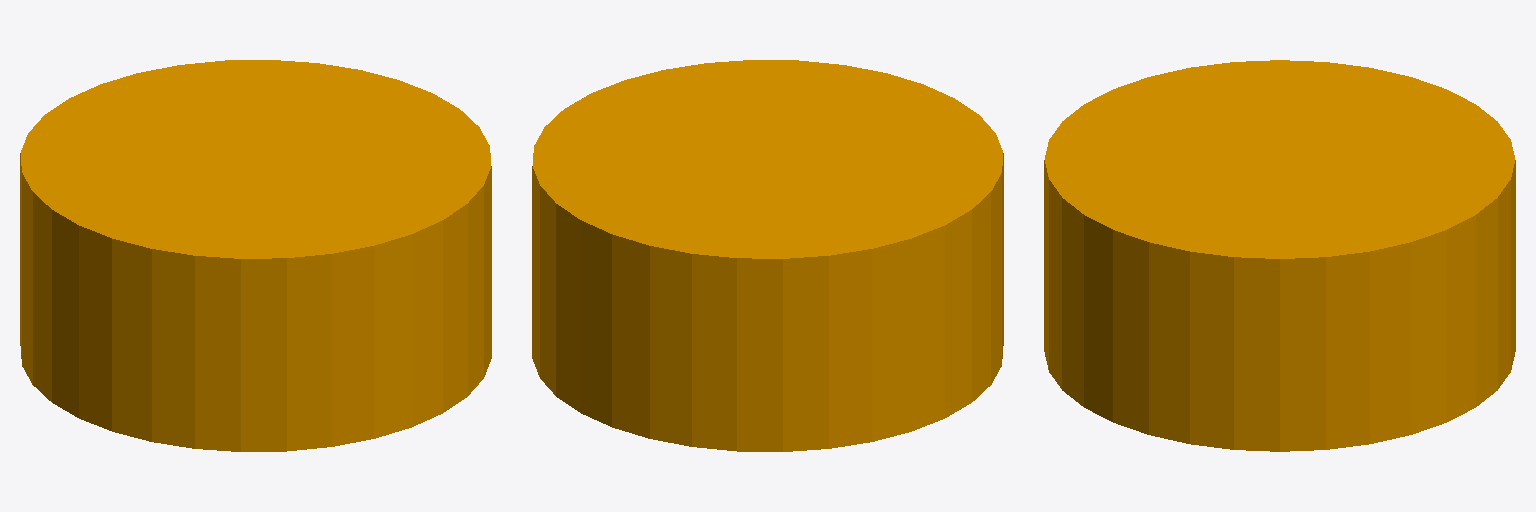
The robot description file, URDF, robot "Xshape_capsule_outer":
<?xml version="1.0"?>
<robot name="Xshape_capsule_outer">
 <link name="body">
  <inertial>
    <mass value="1"/>
    <inertia ixx="0.763958333333" ixy="0" ixz="0" iyy="0.763958333333" iyz="0" izz="0.600625"/>
  </inertial>
  <visual>
    <origin rpy="0 0 0" xyz="0 0 0"/>
    <geometry>
      <cylinder length="1.4" radius="1.55"/>
    </geometry>
  </visual>
  <collision>
    <origin rpy="0 0 0" xyz="0 0 0"/>
    <geometry>
      <cylinder length="1.4" radius="1.55"/>
    </geometry>
  </collision>
 </link>

  <klampt package_root="../../.." default_acc_max="4" >
  </klampt>
</robot>

--- What the picture shows (computed from the rendered views, not written in the file) ---
3 views of the same robot in one strip: view 1: azimuth 30°, elevation 25°; view 2: azimuth 150°, elevation 25°; view 3: azimuth 270°, elevation 25° (orthographic).
Model Xshape_capsule_outer with 1 links and 0 joints (none), rooted at body, posed every joint at zero.
Links seen in each view (by area): view 1: body; view 2: body; view 3: body.
Link boxes in pixels (x1,y1,x2,y2): body: (20, 60, 491, 451); body: (532, 60, 1003, 451); body: (1044, 60, 1515, 451).
Bounding box of the posed robot: 3.1 × 3.1 × 1.4 m (x, y, z).
Geometry: primitives only (box / cylinder / sphere), no mesh files.